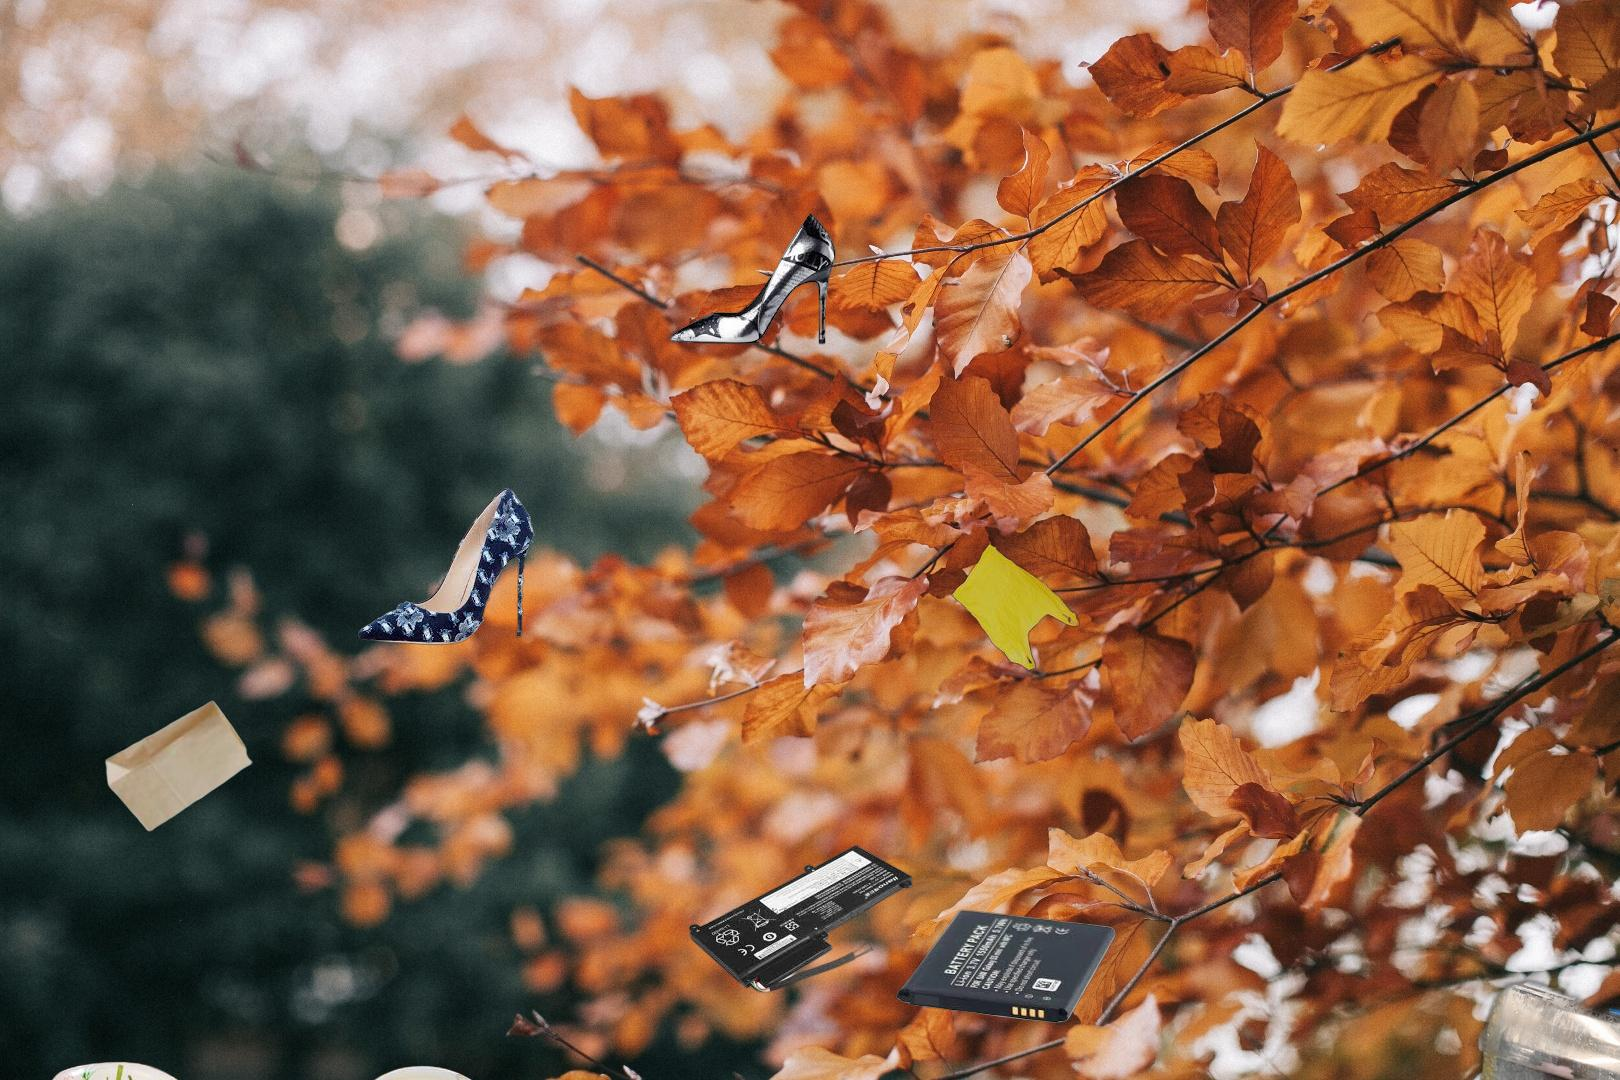battery: (687, 843, 915, 996), (893, 906, 1119, 1026)
biological: (1, 890, 609, 1080)
paper-bag: (102, 697, 256, 835)
plastic-bag: (951, 509, 1082, 673)
plastic-bottles: (1473, 927, 1620, 1080)
shoes: (356, 485, 538, 648), (667, 211, 838, 347)
